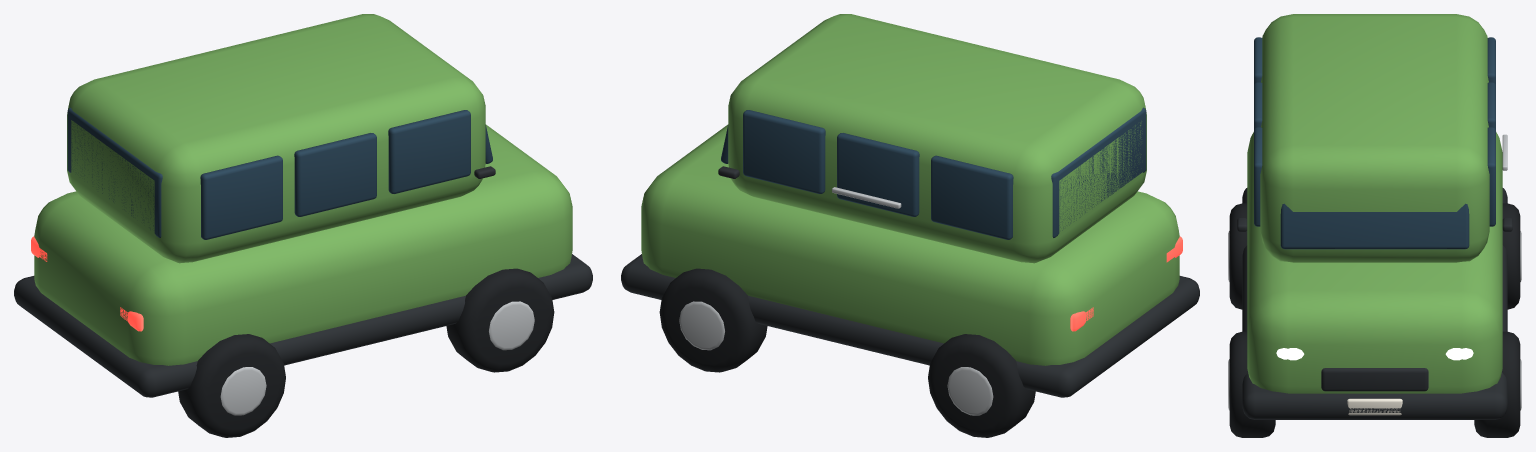
Rendered from car_green.glb.
The picture shows the model from 3 angles, left to right: view 1: azimuth 30°, elevation 25°; view 2: azimuth 150°, elevation 25°; view 3: azimuth 270°, elevation 25°; orthographic projection. The views are drawn at different scales.
Visible parts, largest first — view 1: car_green; view 2: car_green; view 3: car_green.
Boxes of the visible parts, left/top/right/bottom form: car_green: left=14, top=14, right=592, bottom=437; car_green: left=621, top=14, right=1199, bottom=437; car_green: left=1228, top=14, right=1521, bottom=437.
Bounding box in the file's own units: 2.01 × 1.19 × 1.15.
Materials: 3 (3 with a texture image).
